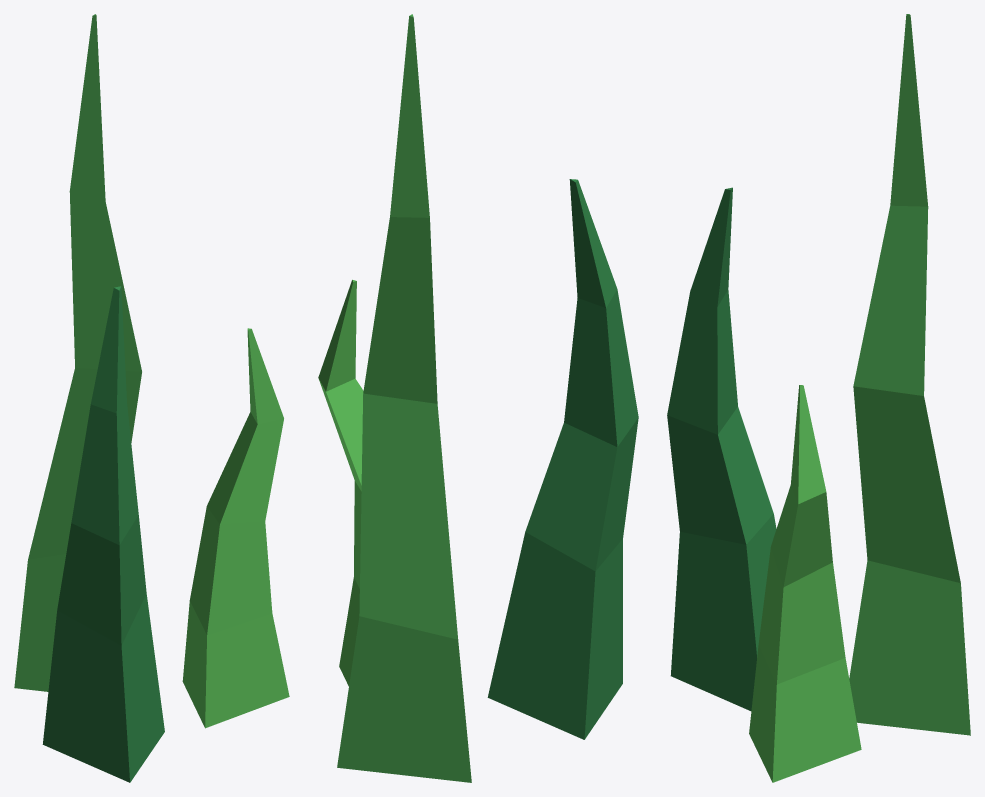
File: floresta_grass_small.glb
3 views of the same model, side by side, from view 1: azimuth 30°, elevation 25°; view 2: azimuth 150°, elevation 25°; view 3: azimuth 270°, elevation 25° (orthographic). The views are drawn at different scales.
Parts seen in each view (by area): view 1: Grass small f; view 2: Grass small f; view 3: Grass small f.
Part boxes in pixels (box(x1,y1,x2,y2)): Grass small f: box(14, 14, 289, 782); Grass small f: box(318, 14, 638, 782); Grass small f: box(667, 14, 970, 782).
Bounding box in the file's own units: 0.5065 × 1.34 × 0.5242.
